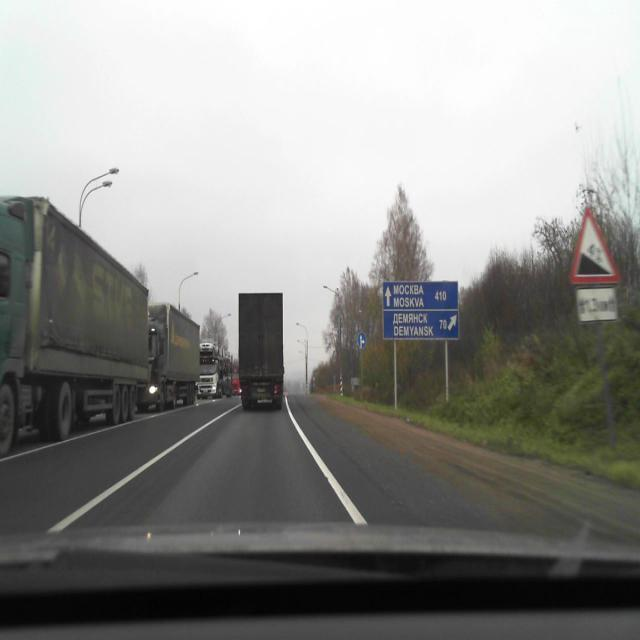road sign: (570, 210, 622, 284), (596, 324, 616, 455), (384, 312, 460, 343), (384, 284, 460, 311), (577, 288, 618, 324), (394, 342, 398, 410), (360, 355, 364, 405), (446, 340, 449, 404)
